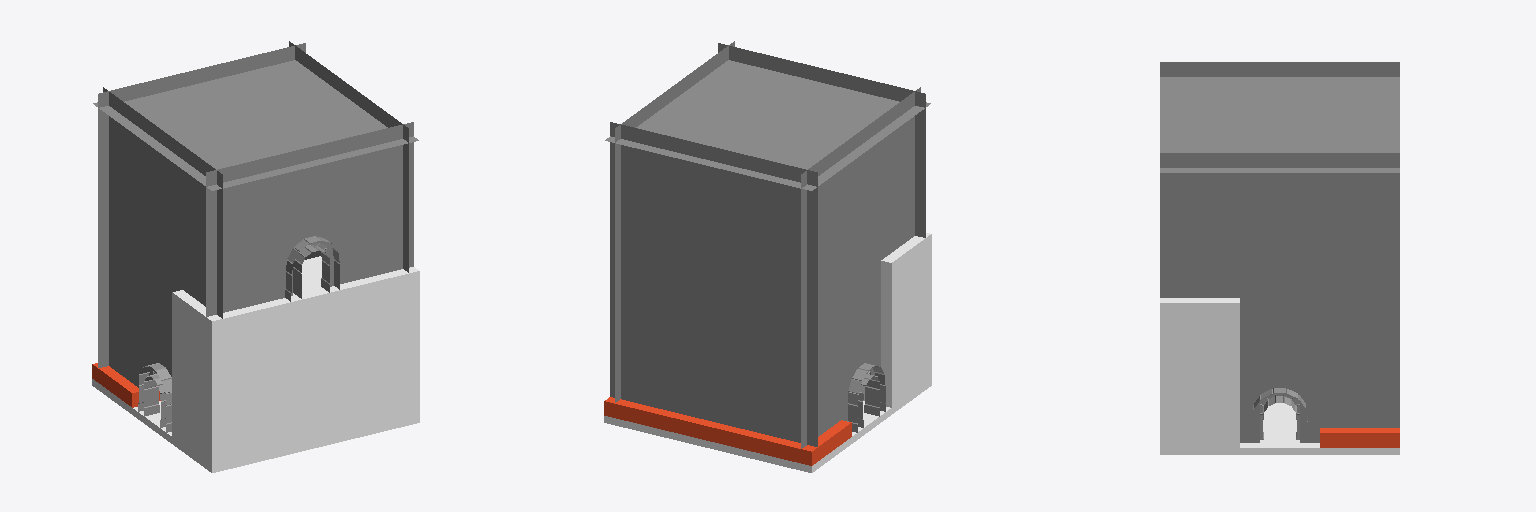
The model's file is fall.obj.
The picture shows the model from 3 angles: view 1: azimuth 30°, elevation 25°; view 2: azimuth 150°, elevation 25°; view 3: azimuth 270°, elevation 25°; orthographic projection.
Visible parts, largest first — view 1: block_default_0, struct_ceiling_1, struct_wall_main_half_2, struct_wall_main_half_27, struct_wall_main_half_9, struct_wall_main_half_25, struct_wall_main_half_26, struct_wall_main_half_5, struct_door_5, struct_door_6, struct_wall_main_half_3, struct_wall_main_half_12 (+1 smaller); view 2: struct_wall_main_half_9, struct_ceiling_1, struct_wall_main_half_2, block_default_0, open_block_19, struct_wall_main_half_5, struct_wall_main_half_27, struct_door_6, struct_wall_main_half_12, struct_wall_main_half_3, struct_wall_main_half_26, struct_wall_main_half_6; view 3: struct_wall_main_half_3, struct_ceiling_1, block_default_0, struct_wall_main_half_6, struct_wall_main_half_11, struct_door_7, struct_wall_main_half_2, open_block_19.
Boxes of the visible parts, <box> form: block_default_0: <box>92,256,419,472</box>; struct_ceiling_1: <box>93,60,418,190</box>; struct_wall_main_half_2: <box>103,87,222,318</box>; struct_wall_main_half_27: <box>206,122,413,244</box>; struct_wall_main_half_9: <box>98,43,305,367</box>; struct_wall_main_half_25: <box>344,194,413,282</box>; struct_wall_main_half_26: <box>206,228,274,316</box>; struct_wall_main_half_5: <box>109,236,142,387</box>; struct_door_5: <box>275,211,343,301</box>; struct_door_6: <box>138,333,171,432</box>; struct_wall_main_half_3: <box>289,41,408,272</box>; struct_wall_main_half_12: <box>143,261,181,353</box>; struct_wall_main_half_9: <box>610,122,817,446</box>; struct_ceiling_1: <box>605,60,930,190</box>; struct_wall_main_half_2: <box>801,87,920,318</box>; block_default_0: <box>604,233,931,472</box>; open_block_19: <box>604,397,851,465</box>; struct_wall_main_half_5: <box>801,290,840,448</box>; struct_wall_main_half_27: <box>718,43,925,165</box>; struct_door_6: <box>841,333,885,432</box>; struct_wall_main_half_12: <box>841,261,880,361</box>; struct_wall_main_half_3: <box>615,41,734,272</box>; struct_wall_main_half_26: <box>915,163,925,237</box>; struct_wall_main_half_6: <box>615,269,620,402</box>; struct_wall_main_half_3: <box>1160,153,1399,297</box>; struct_ceiling_1: <box>1160,77,1399,172</box>; block_default_0: <box>1160,298,1399,454</box>; struct_wall_main_half_6: <box>1320,298,1399,427</box>; struct_wall_main_half_11: <box>1240,298,1319,369</box>; struct_door_7: <box>1240,370,1319,442</box>; struct_wall_main_half_2: <box>1160,62,1399,76</box>; open_block_19: <box>1320,428,1399,447</box>.
Size of the model in its own units: 3 by 4.1 by 3.